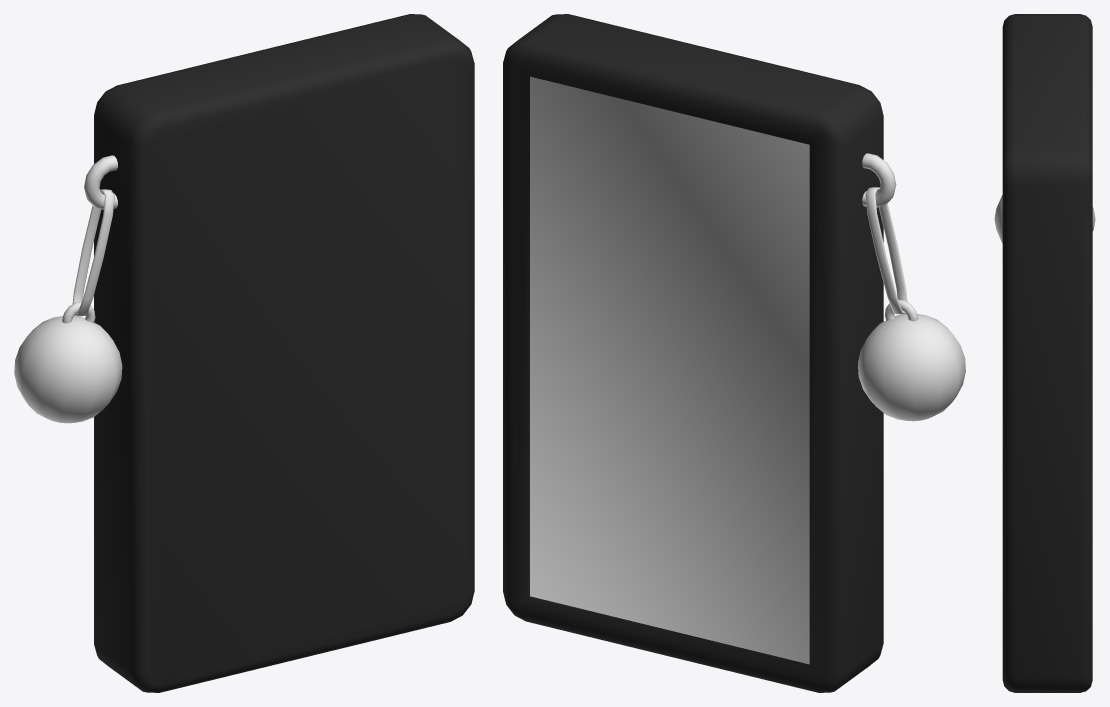
File: PhoneV2.glb
The picture shows the model from 3 angles, left to right: view 1: azimuth 30°, elevation 25°; view 2: azimuth 150°, elevation 25°; view 3: azimuth 270°, elevation 25°; orthographic projection. The views are drawn at different scales.
Visible parts, largest first — view 1: Phone, Moon, Cordon_Charm, Attache_Charm; view 2: Phone, Moon, Cordon_Charm, Attache_Charm; view 3: Phone, Moon.
Part boxes in pixels (x1,y1,x2,y2): Phone: [94, 14, 474, 692]; Moon: [14, 316, 122, 423]; Cordon_Charm: [72, 189, 114, 316]; Attache_Charm: [84, 155, 117, 209]; Phone: [503, 14, 883, 692]; Moon: [858, 314, 965, 421]; Cordon_Charm: [865, 187, 907, 314]; Attache_Charm: [862, 153, 896, 207]; Phone: [1002, 14, 1092, 692]; Moon: [994, 195, 1095, 243].
Bounding box in the file's own units: 0.8009 × 1.02 × 0.1727.
Materials: 3 (1 with a texture image).
